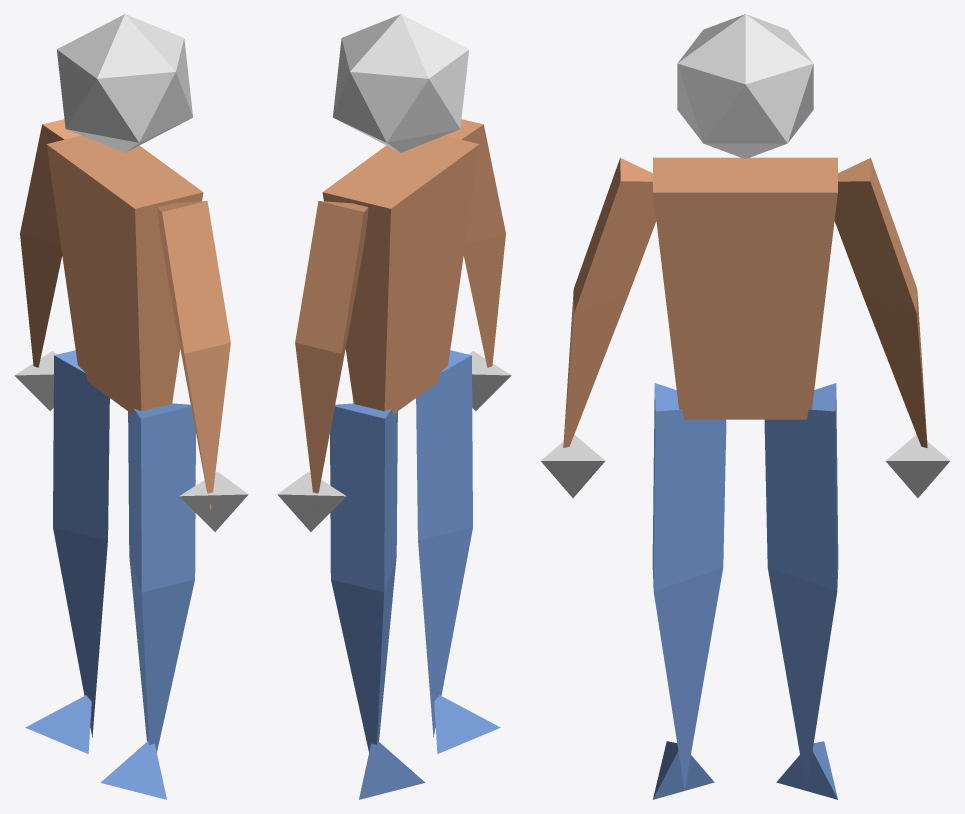
The model's file is Man.glb.
3 views of the same model, side by side, from view 1: azimuth 30°, elevation 25°; view 2: azimuth 150°, elevation 25°; view 3: azimuth 270°, elevation 25° (orthographic). The views are drawn at different scales.
Parts seen in each view (by area): view 1: Plane; view 2: Plane; view 3: Plane.
Boxes of the visible parts, x1,y1,x2,y2 form: Plane: [14, 14, 248, 799]; Plane: [277, 14, 511, 799]; Plane: [541, 14, 949, 799].
Bounding box in the file's own units: 1.83 × 10.84 × 5.12.
